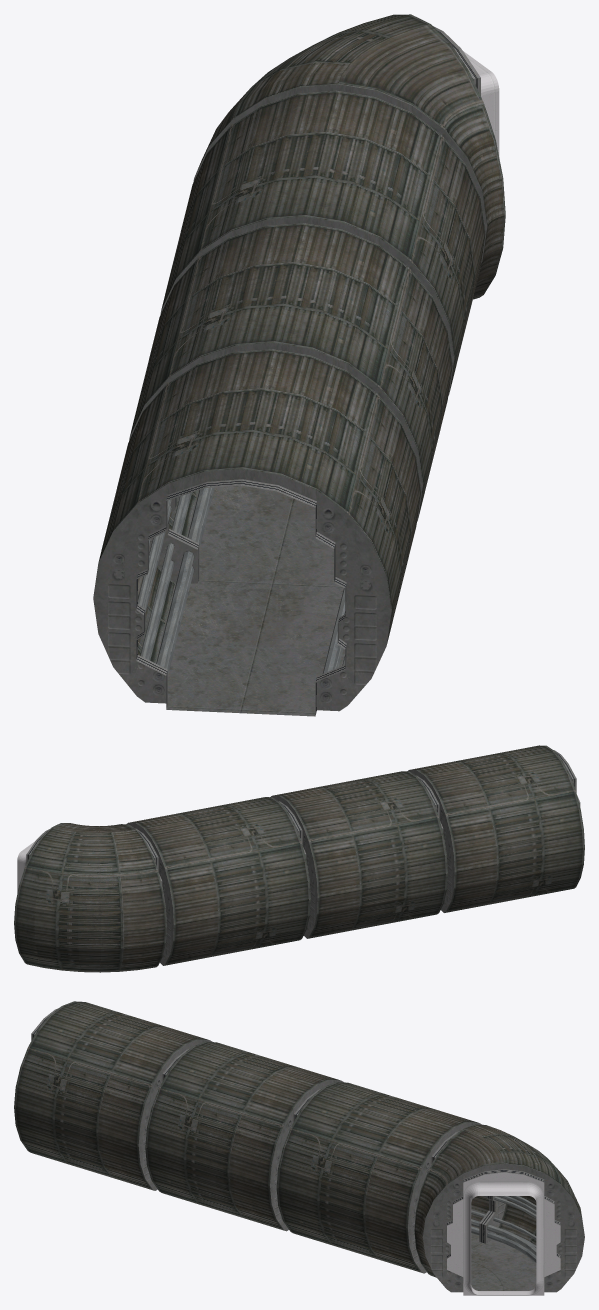
The model's file is thm_spc_corvette_dungeon_r41_penthall41_mesh_r41.fbx.
The picture shows the model from 3 angles, top to bottom: view 1: azimuth 30°, elevation 25°; view 2: azimuth 150°, elevation 25°; view 3: azimuth 270°, elevation 25°; orthographic projection. The views are drawn at different scales.
Visible parts, largest first — view 1: mesh_node; view 2: mesh_node; view 3: mesh_node.
Part boxes in pixels (box(x1,y1,x2,y2)): mesh_node: box(93, 14, 505, 716); mesh_node: box(14, 745, 584, 972); mesh_node: box(14, 1001, 584, 1295).
Bounding box in the file's own units: 11.4 × 3.5 × 14.08.
